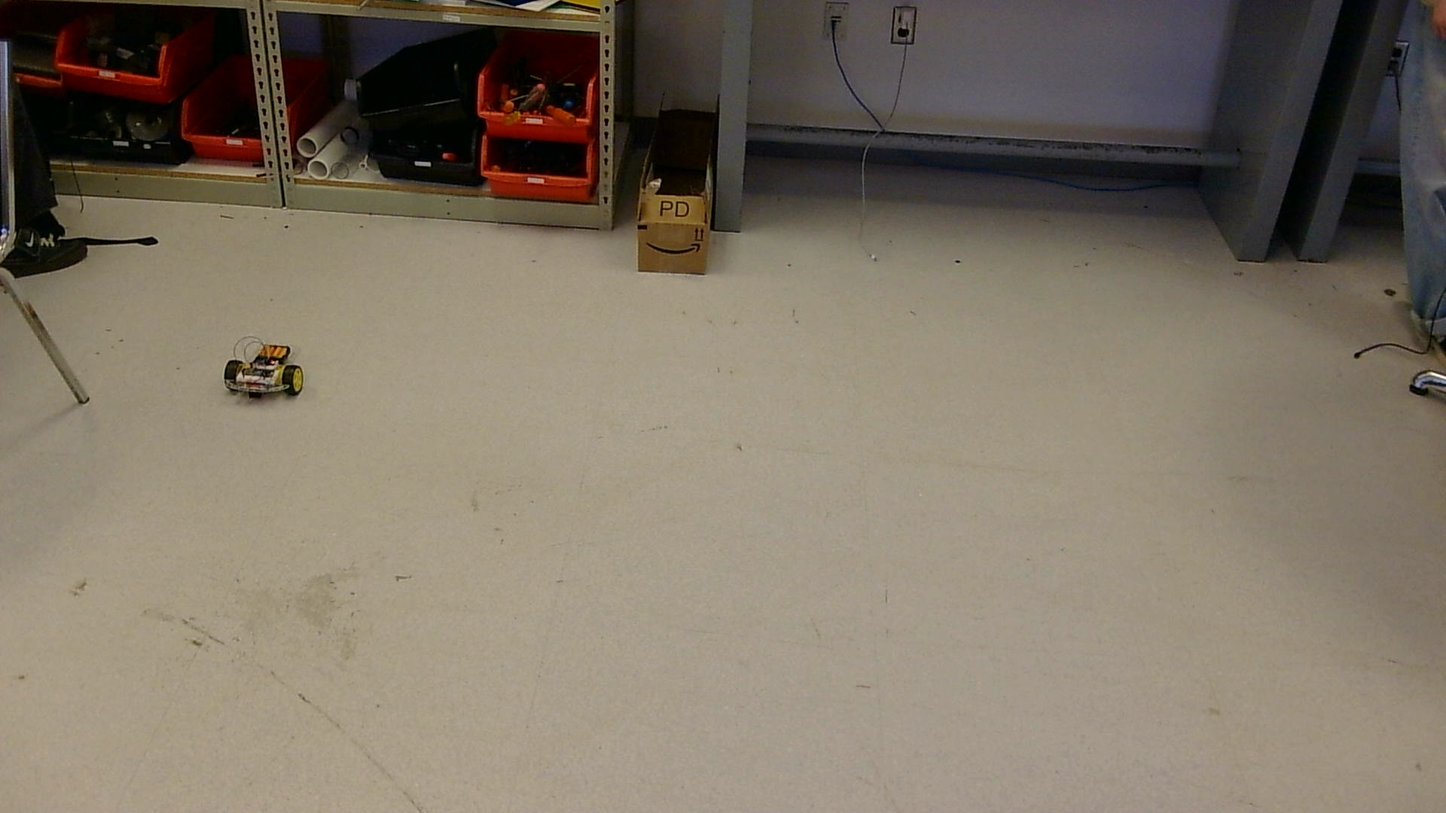robot: (223, 336, 303, 397)
